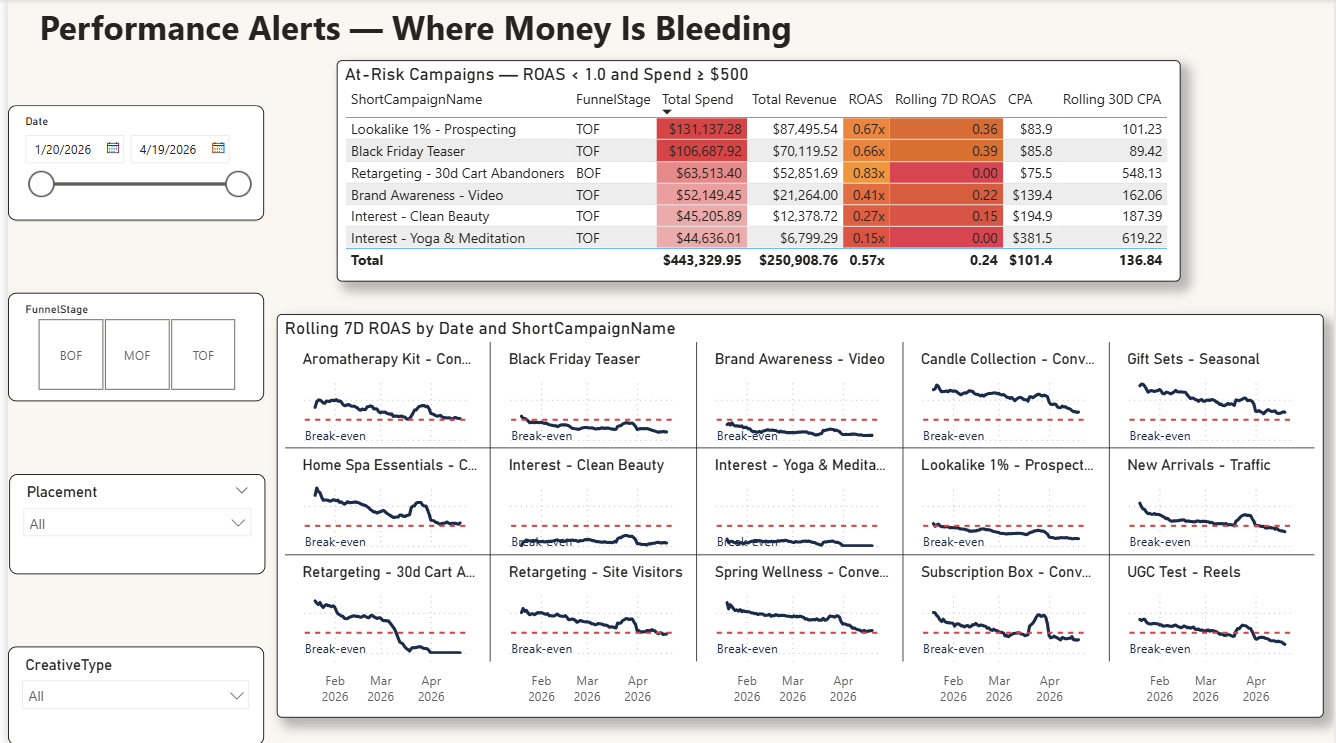

The dashboard page shown, as its layout file describes it:
{"tool":"powerbi","page":{"name":"Performance Alerts","canvas":[1280,720],"ordinal":3},"visuals":[{"type":"slicer","fields":{"Values":["Dim_Date.Date"]},"box":[0,102.5,247.3,111],"z":0},{"type":"slicer","fields":{"Values":["Dim_Campaign.FunnelStage"]},"box":[0,283.5,247.3,105],"z":1000},{"type":"slicer","fields":{"Values":["Dim_AdSet.Placement"]},"box":[1.2,458.5,247.3,96.5],"z":2000},{"type":"slicer","fields":{"Values":["Dim_Creative.CreativeType"]},"box":[0,625,246.9,95],"z":3000},{"type":"textbox","box":[25.3,0,844.5,90.5],"z":17000},{"type":"tableEx","title":"At-Risk Campaigns — ROAS < 1.0 and Spend ≥ $500","fields":{"Values":["Dim_Campaign.ShortCampaignName","Dim_Campaign.FunnelStage","Calculations.Total Spend","Calculations.Total Revenue","Calculations.ROAS","Calculations.Rolling 7D ROAS","Calculations.CPA","Calculations.Rolling 30D CPA"]},"box":[317.5,58.9,814.1,213.3],"z":17001},{"type":"lineChart","fields":{"Category":["Dim_Date.Date"],"Y":["Calculations.Rolling 7D ROAS"],"Rows":["Dim_Campaign.ShortCampaignName"]},"box":[259.9,304.1,1010.3,389.9],"z":17002}]}

Visuals, with their boxes in screenshot pixels (x1, y1, x2, y2), scaled from the page's 1280x720 canvas onto the 1336x743 screenshot:
slicer - Dim_Date.Date: (left=0, top=106, right=258, bottom=220)
slicer - Dim_Campaign.FunnelStage: (left=0, top=293, right=258, bottom=401)
slicer - Dim_AdSet.Placement: (left=1, top=473, right=259, bottom=573)
slicer - Dim_Creative.CreativeType: (left=0, top=645, right=258, bottom=742)
textbox: (left=26, top=0, right=908, bottom=93)
"At-Risk Campaigns — ROAS < 1.0 and Spend ≥ $500" tableEx: (left=331, top=61, right=1181, bottom=281)
lineChart - Dim_Date.Date x Calculations.Rolling 7D ROAS: (left=271, top=314, right=1326, bottom=716)
